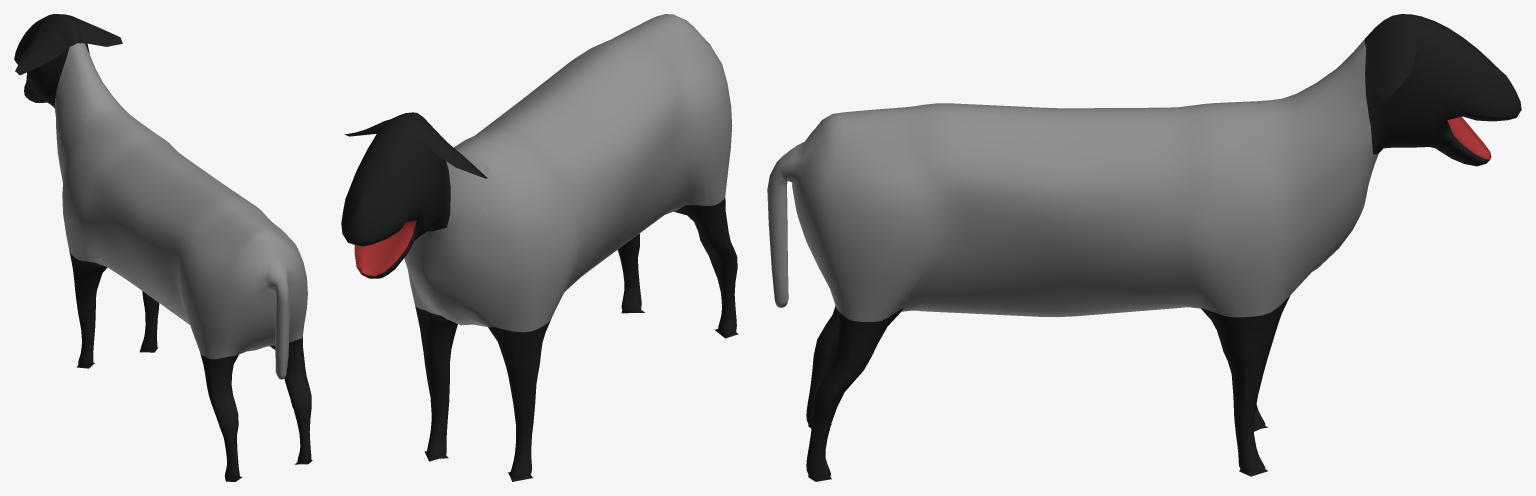
Rendered from Sheep_1 (2).fbx.
3 renders of one model, left to right at view 1: azimuth 30°, elevation 25°; view 2: azimuth 150°, elevation 25°; view 3: azimuth 270°, elevation 25°, orthographic. The views are drawn at different scales.
Visible parts, largest first — view 1: polySurface8, polySurface9; view 2: polySurface8, polySurface9; view 3: polySurface8.
Boxes of the visible parts, x1,y1,x2,y2 form: polySurface8: (14,14,312,481); polySurface9: (62,116,198,329); polySurface8: (341,14,738,481); polySurface9: (482,59,727,256); polySurface8: (767,14,1521,481).
Bounding box in the file's own units: 3.42 × 8.94 × 14.01.
